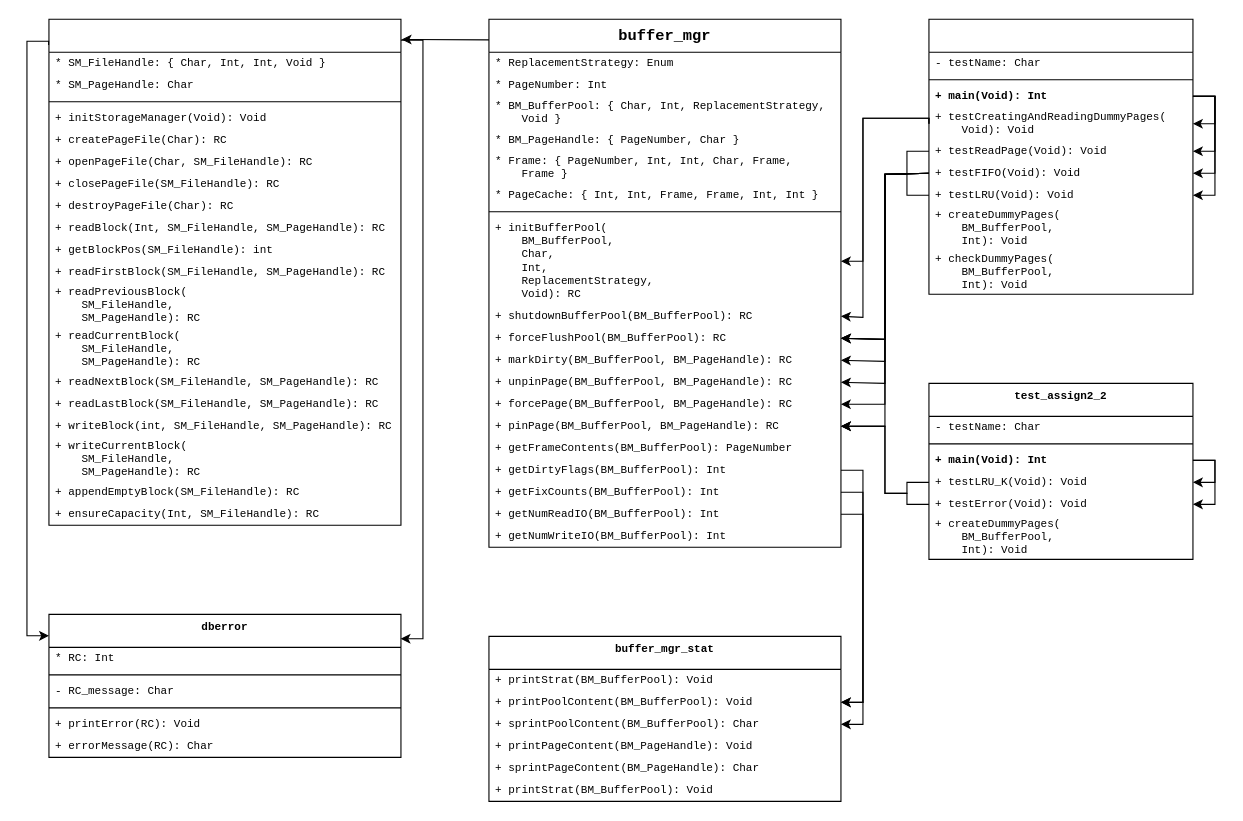
Some shapes in this 1243 by 821 pixel diagram are drawn without their labels. Here are the shapes that lost their labels. From the top down, the box of each, then its label:
(928, 18, 1193, 294): test_assign2_1
(48, 18, 401, 525): store_mgr
